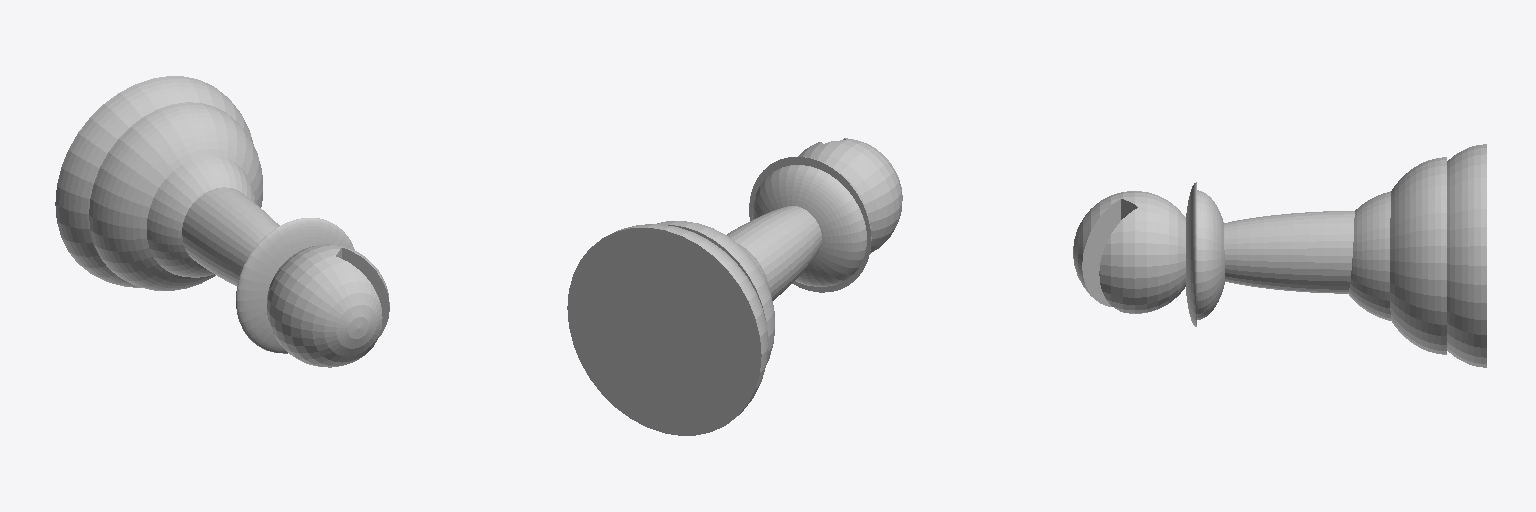
Rendered from bishop.obj.
The picture shows the model from 3 angles: view 1: azimuth 30°, elevation 25°; view 2: azimuth 150°, elevation 25°; view 3: azimuth 270°, elevation 25°; orthographic projection.
Parts seen in each view (by area): view 1: obj_0; view 2: obj_0; view 3: obj_0.
Boxes of the visible parts, box(x1,y1,x2,y2) form: obj_0: box(55, 76, 389, 367); obj_0: box(567, 138, 902, 435); obj_0: box(1073, 144, 1486, 367).
Size of the model in its own units: 4.94 by 4.94 by 9.12.